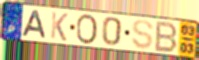0: (101, 16, 124, 47)
A: (21, 9, 48, 40)
B: (153, 21, 179, 54)
K: (49, 11, 70, 43)
O: (75, 13, 98, 46)
S: (130, 19, 155, 51)
